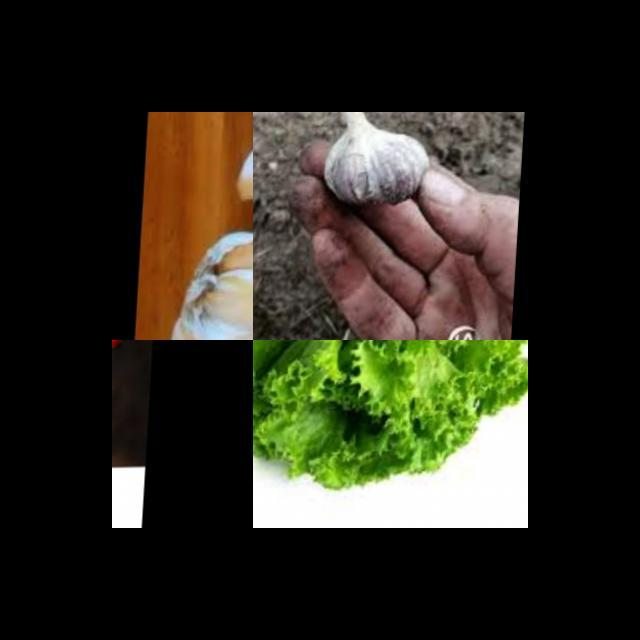garlic: (314, 112, 444, 212), (168, 228, 253, 340), (230, 127, 253, 208)
